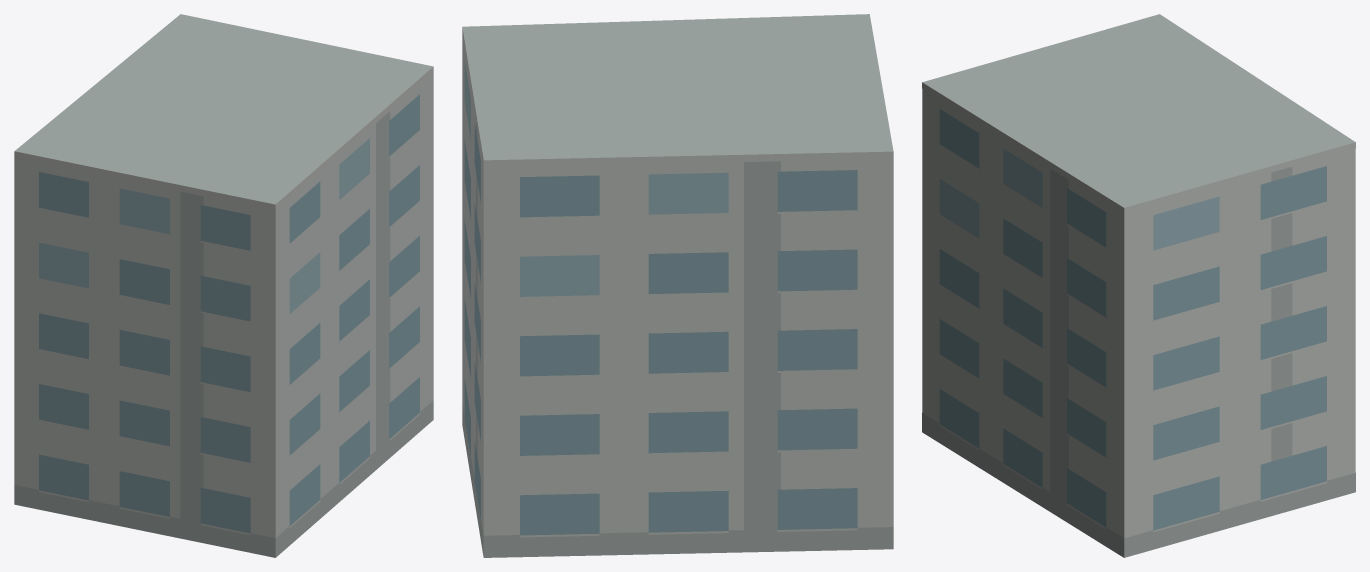
The model's file is survey-upis-32945489.glb.
3 views of the same model, side by side, from view 1: azimuth 30°, elevation 25°; view 2: azimuth 150°, elevation 25°; view 3: azimuth 270°, elevation 25° (orthographic). The views are drawn at different scales.
Parts seen in each view (by area): view 1: survey-upis-32945489.tmp; view 2: survey-upis-32945489.tmp; view 3: survey-upis-32945489.tmp.
Part boxes in pixels (<box>): survey-upis-32945489.tmp: <box>14,14,433,557</box>; survey-upis-32945489.tmp: <box>462,14,893,557</box>; survey-upis-32945489.tmp: <box>922,14,1355,557</box>.
Size of the model in its own units: 15.75 by 13.25 by 14.89.
